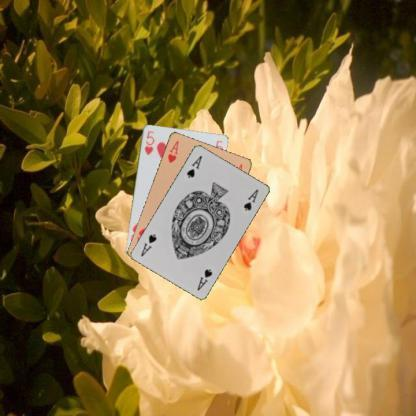5h: (142, 128, 156, 156)
Ah: (165, 138, 180, 164)
As: (184, 152, 204, 180), (194, 266, 213, 292)
